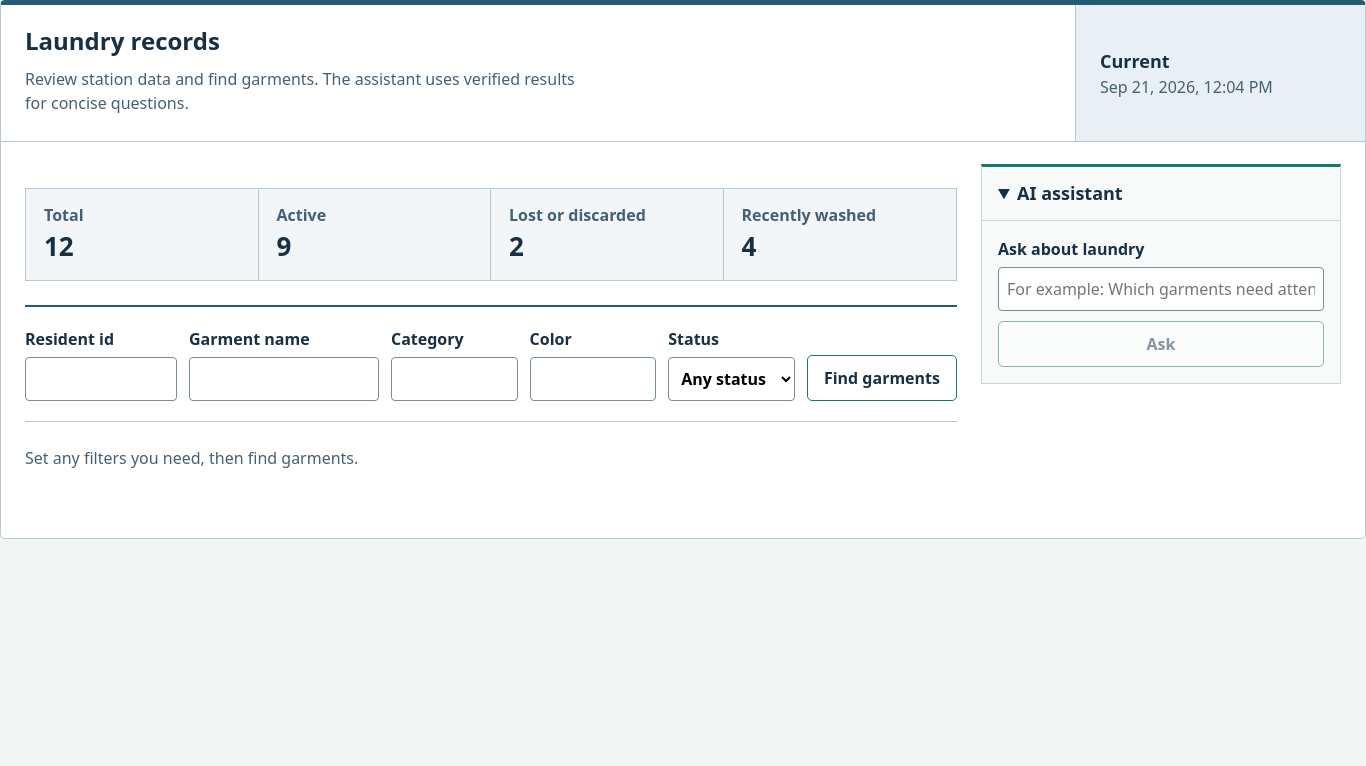
does not invent verified answer freshness for never results
expect the text "12" is shown: met, box [44, 228, 74, 264]
Type "Summary?" into the field labelled "Ask about laundry" at (1161, 289), box [998, 267, 1324, 311]
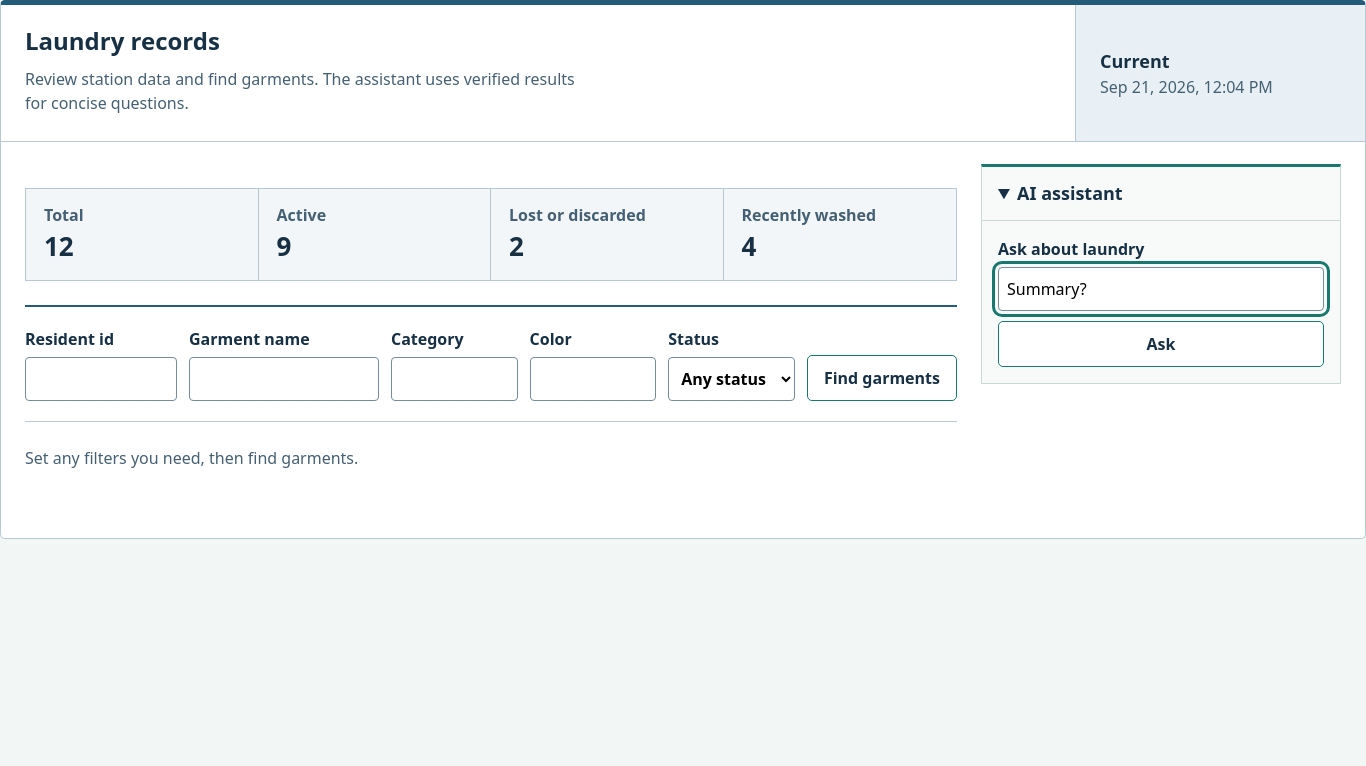
Click the button "Ask" at (1161, 344), box [998, 321, 1324, 367]
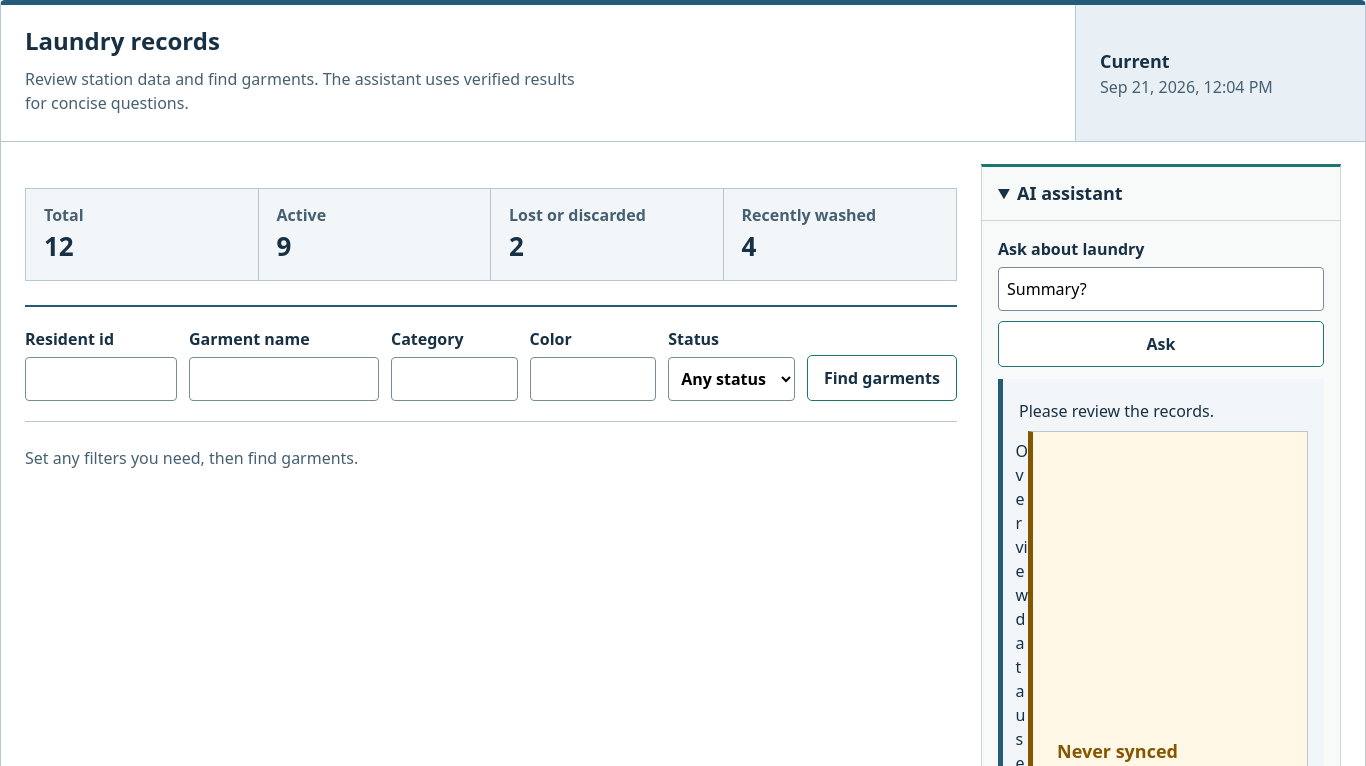
expect the text "Never synced" is shown: met, box [1057, 738, 1178, 762]
